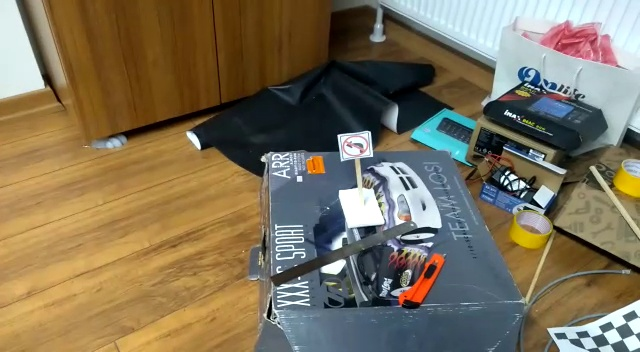sola_donulmez: (341, 132, 370, 159)
